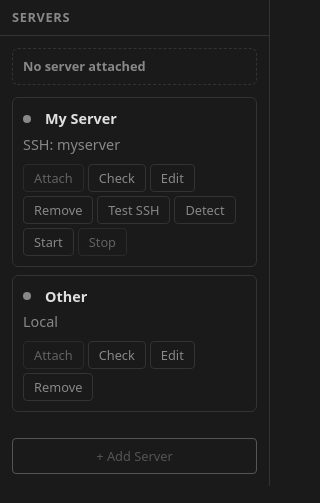
Test case: delete confirms and removes target
Expected: the element with test id "server-card-ssh-1" is shown, [12,97,257,267]
Click the button with test id "remove-server-ssh-1". click: (58, 210)
box: [23,196,93,224]
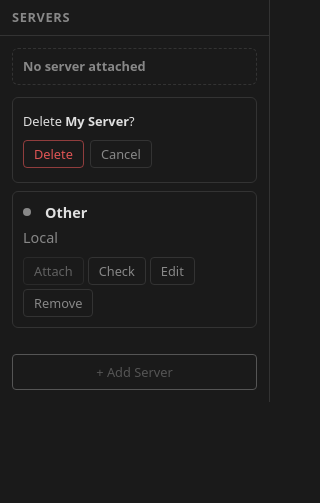
Now the element with test id "delete-confirm-ssh-1" is shown, box [23,112,152,168]
Click the button with test id "delete-confirm-yes-ssh-1". click: (53, 154)
box: [23,140,84,168]
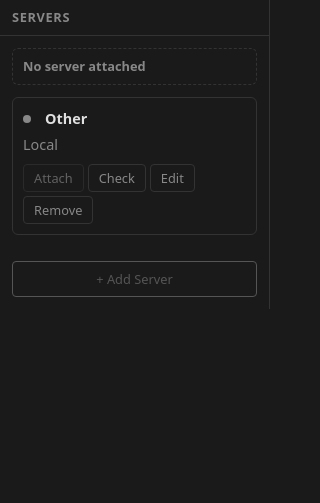
Expected: the element with test id "server-card-ssh-2" is shown, [12,97,257,235]
Now the element with test id "server-card-ssh-1" is gone
